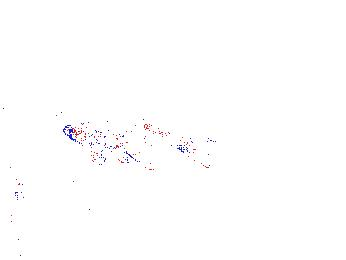redtail glassfish: (61, 118, 212, 167), (1, 177, 29, 260)
